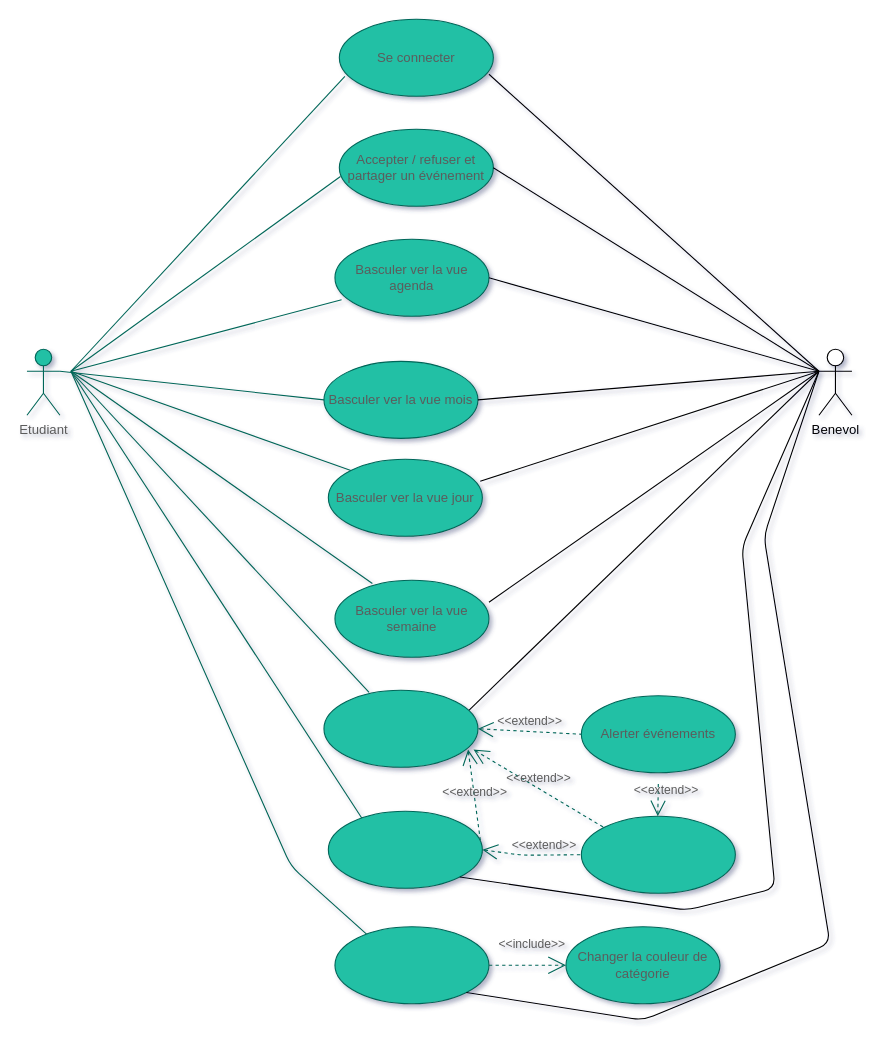
The diagram is 884 pixels wide and 1047 high, and some of its shapes have lost their labels. The shapes that lost their labels are listed below. From the top down, each one's centre as x and y in pixels, then its label:
[400,728]: Ajouter un événement
[404,849]: Editer événement et suprimer événement
[657,854]: Ajouter répéter événement
[411,965]: Ajouter/suprimer des catégorie
